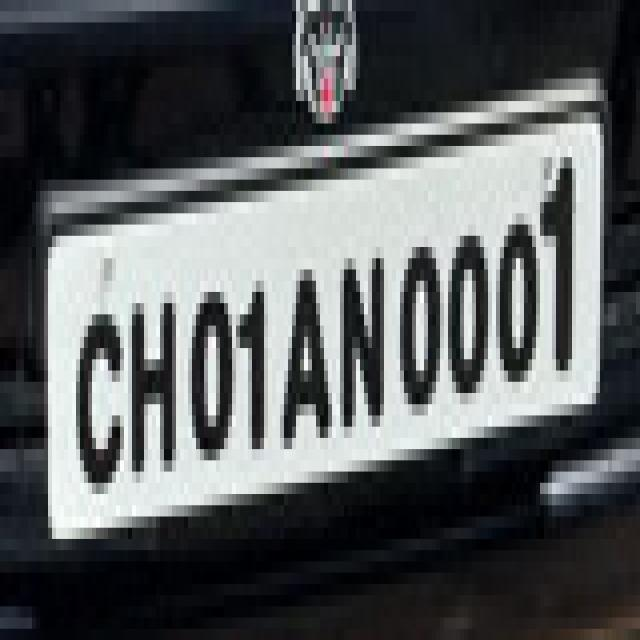0: (398, 228, 446, 421), (189, 291, 237, 465), (496, 212, 542, 388), (446, 225, 489, 406)
1: (538, 127, 582, 387), (234, 264, 272, 471)
A: (282, 261, 336, 454)
C: (72, 291, 126, 485)
H: (128, 276, 182, 486)
N: (338, 234, 390, 445)
